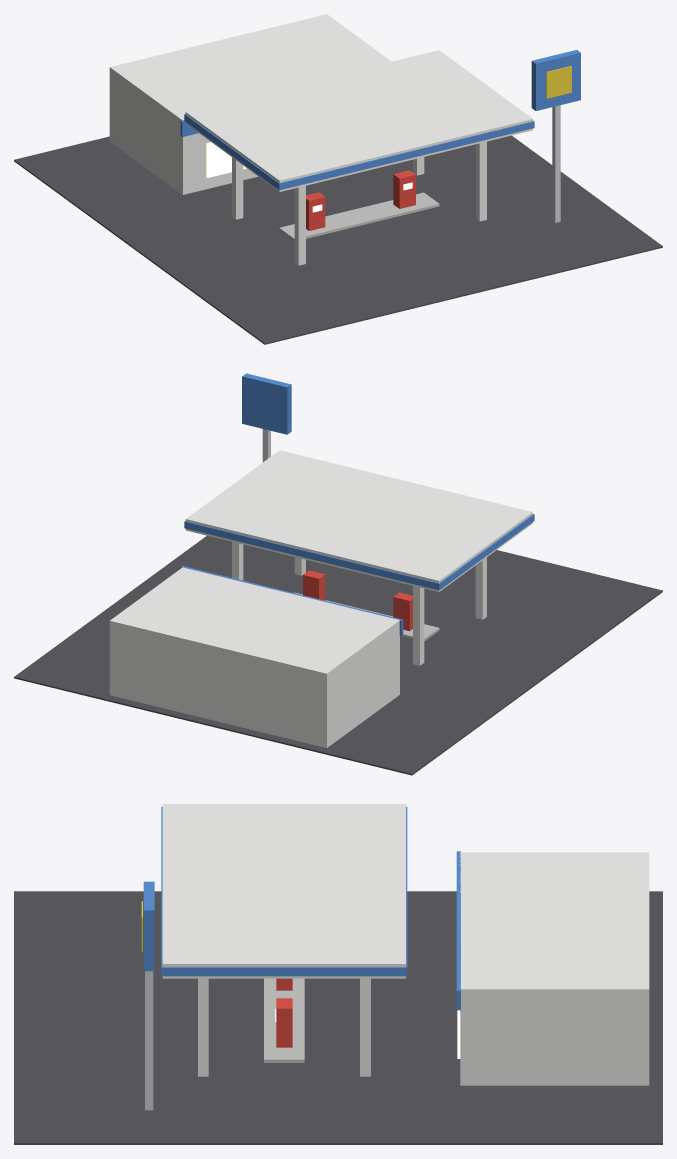
The model's file is gas_station.glb.
3 renders of one model, top to bottom at view 1: azimuth 30°, elevation 25°; view 2: azimuth 150°, elevation 25°; view 3: azimuth 270°, elevation 25°, orthographic. The views are drawn at different scales.
Parts seen in each view (by area): view 1: GasStation; view 2: GasStation; view 3: GasStation.
Part boxes in pixels (<box>): GasStation: <box>14,14,662,344</box>; GasStation: <box>14,373,662,775</box>; GasStation: <box>14,804,662,1144</box>.
Size of the model in its own units: 22 by 8.76 by 24.
